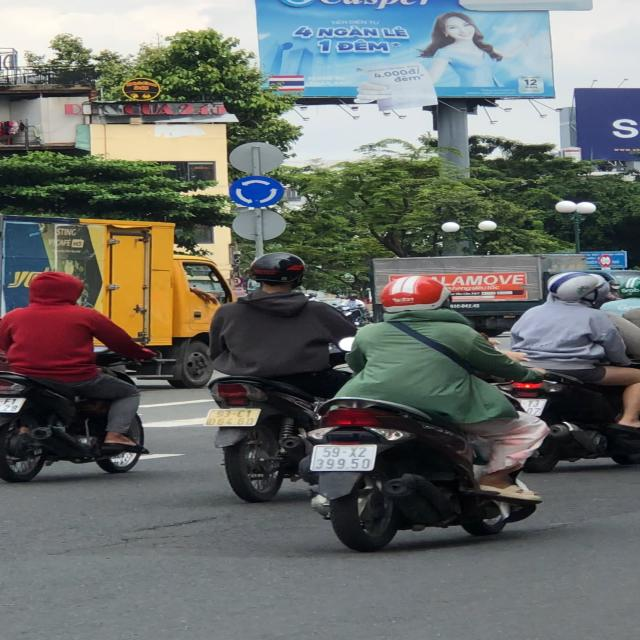Bien bao noi giao nhau chay theo vong xuyen: (219, 170, 299, 210)
